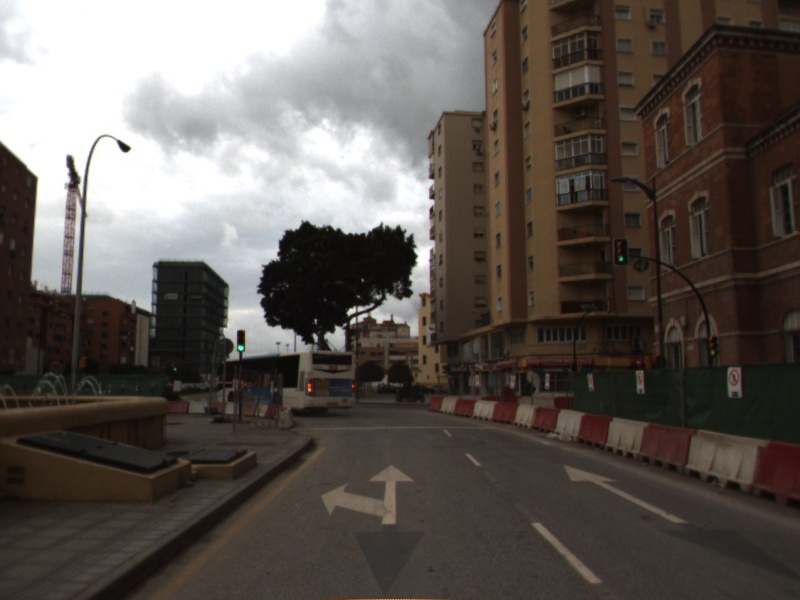STRAIGHT: (562, 463, 691, 525)
STRAIGHT_LEFT: (319, 462, 417, 526)
